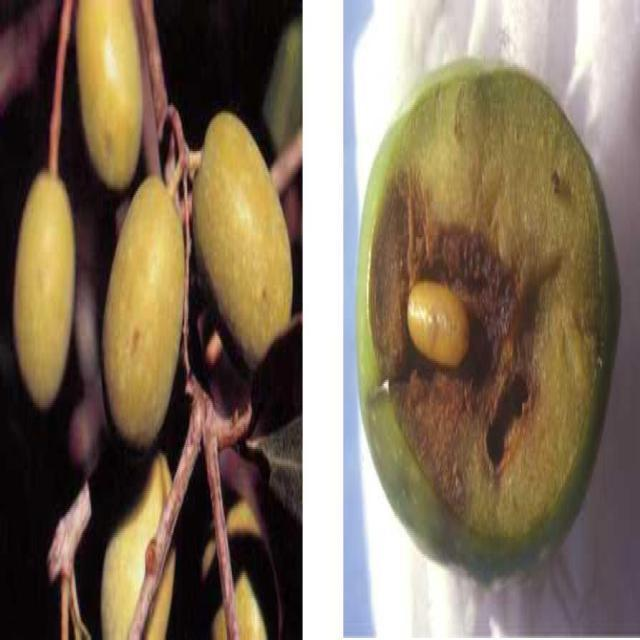Anthracnose: (357, 59, 618, 577), (192, 111, 292, 363), (103, 176, 184, 442)
